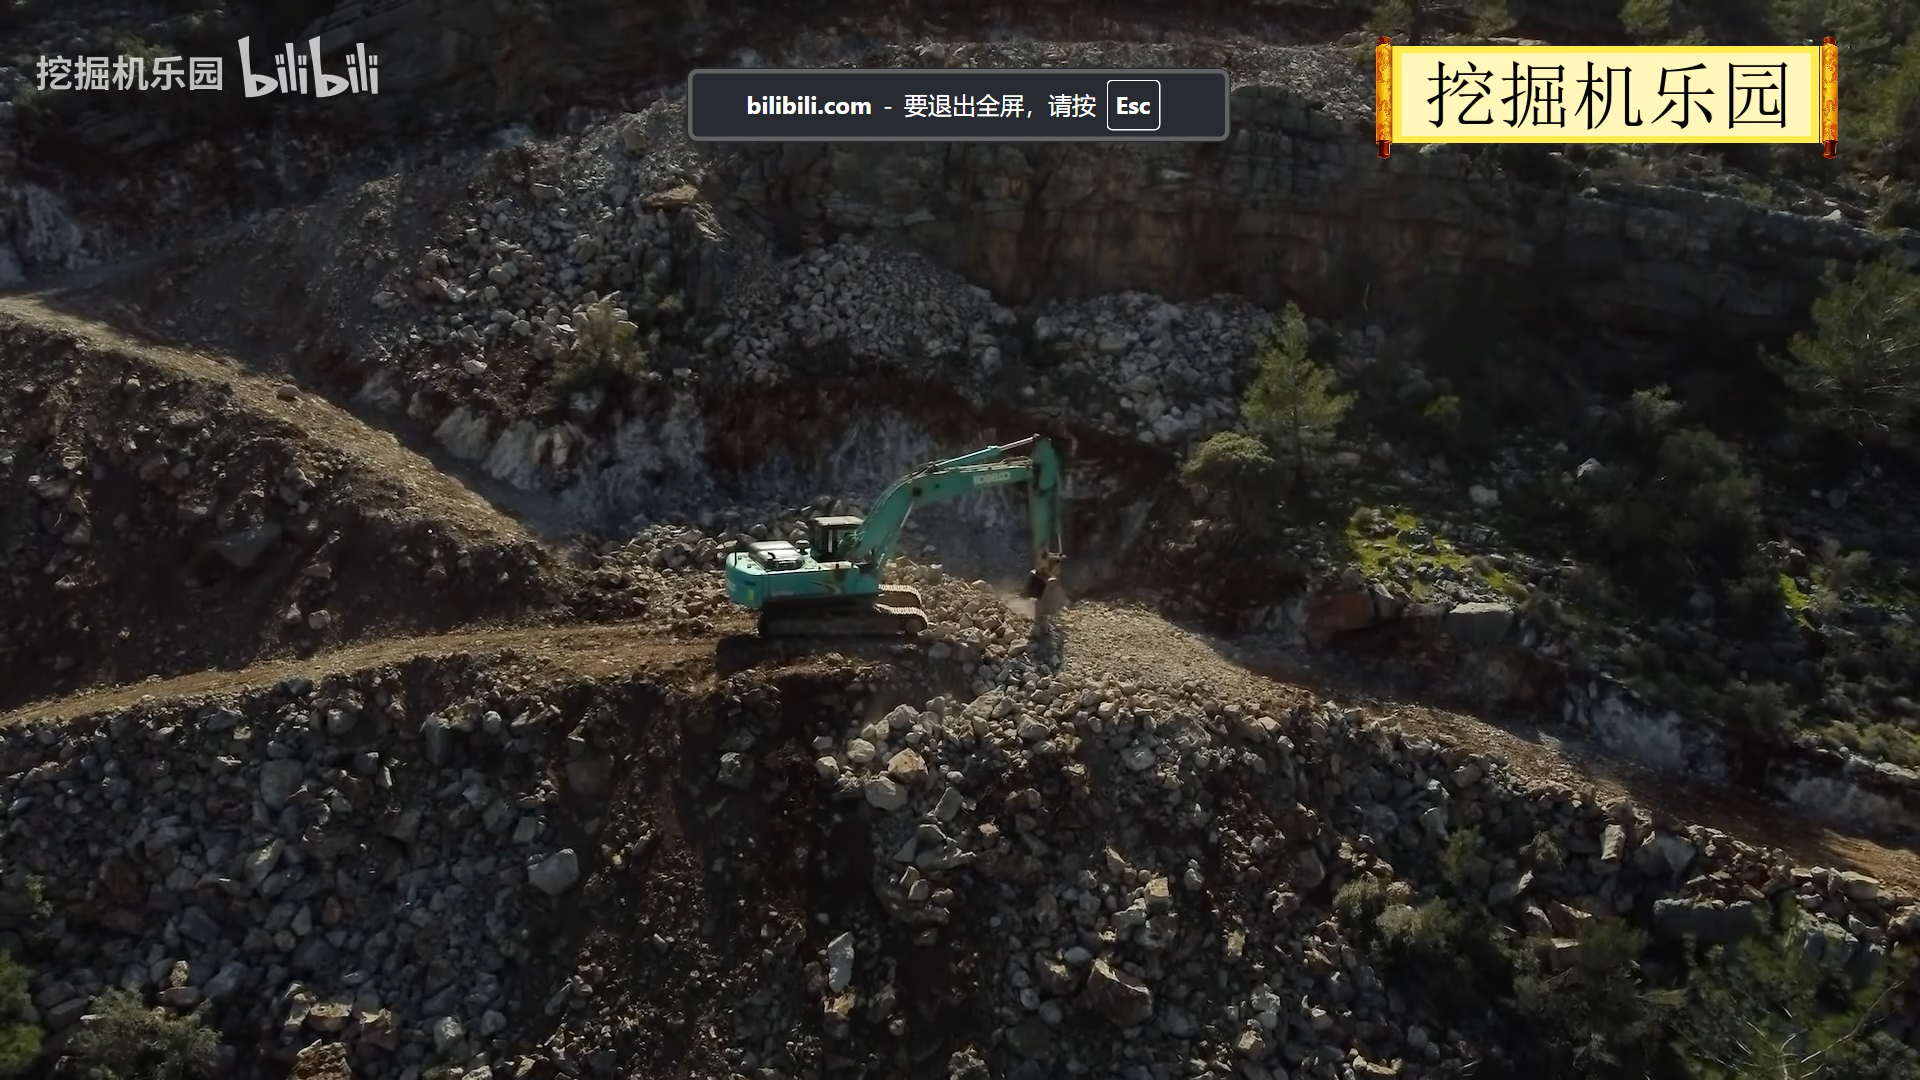excavator: (692, 402, 1108, 678)
